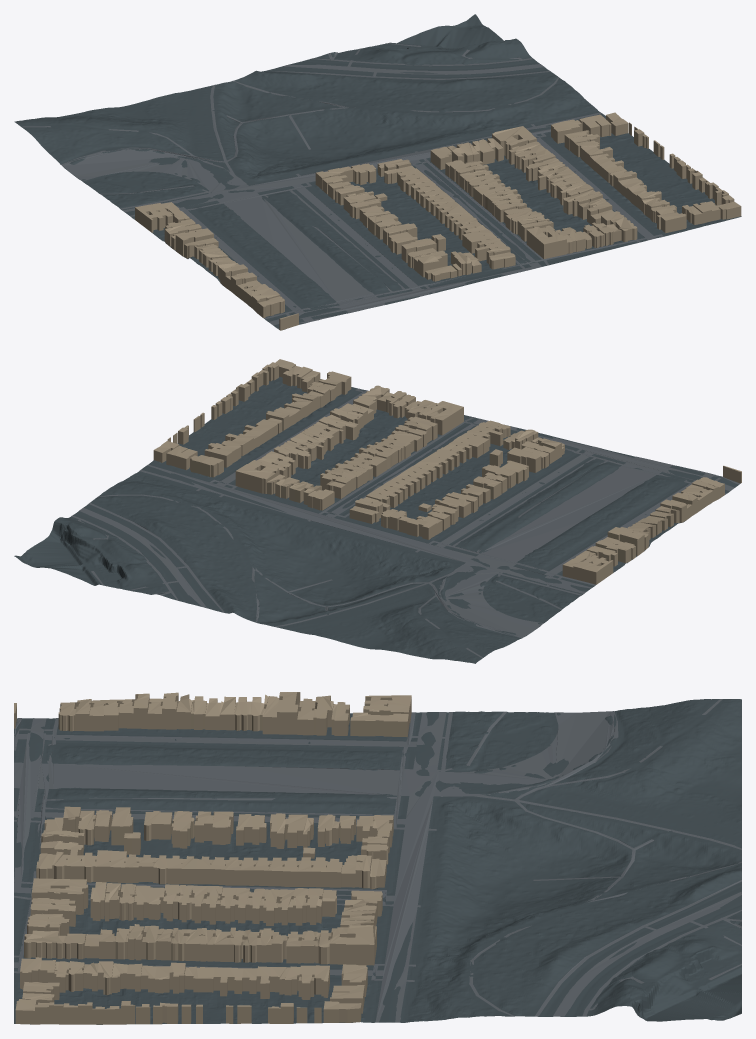
Rendered from epsg26910-1423-10887.lod0.glb.
3 renders of one model, top to bottom at view 1: azimuth 30°, elevation 25°; view 2: azimuth 150°, elevation 25°; view 3: azimuth 270°, elevation 25°, orthographic. The views are drawn at different scales.
Visible parts, largest first — view 1: epsg26910-1423-10887-lod0; view 2: epsg26910-1423-10887-lod0; view 3: epsg26910-1423-10887-lod0.
Part boxes in pixels (x1,y1,x2,y2): epsg26910-1423-10887-lod0: (14,14,741,330); epsg26910-1423-10887-lod0: (14,359,741,663); epsg26910-1423-10887-lod0: (14,692,741,1024).
Bounding box in the file's own units: 384 × 24.62 × 384.
